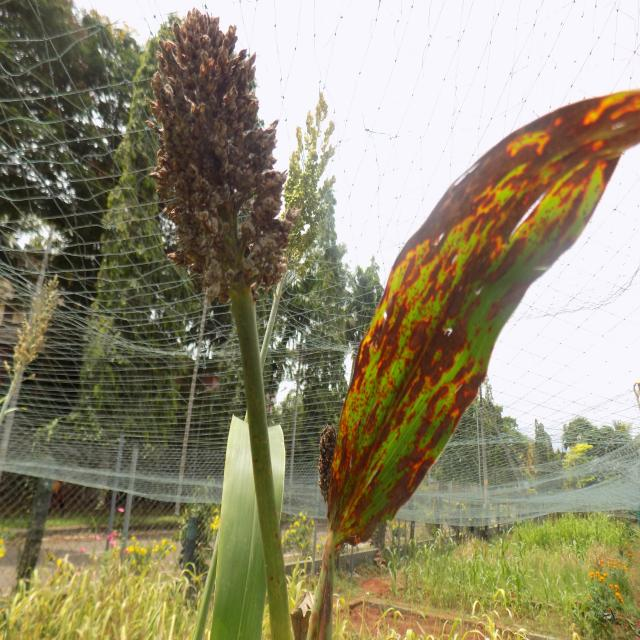millet_healthy: (210, 411, 288, 640)
millet_rust: (328, 89, 640, 550)
